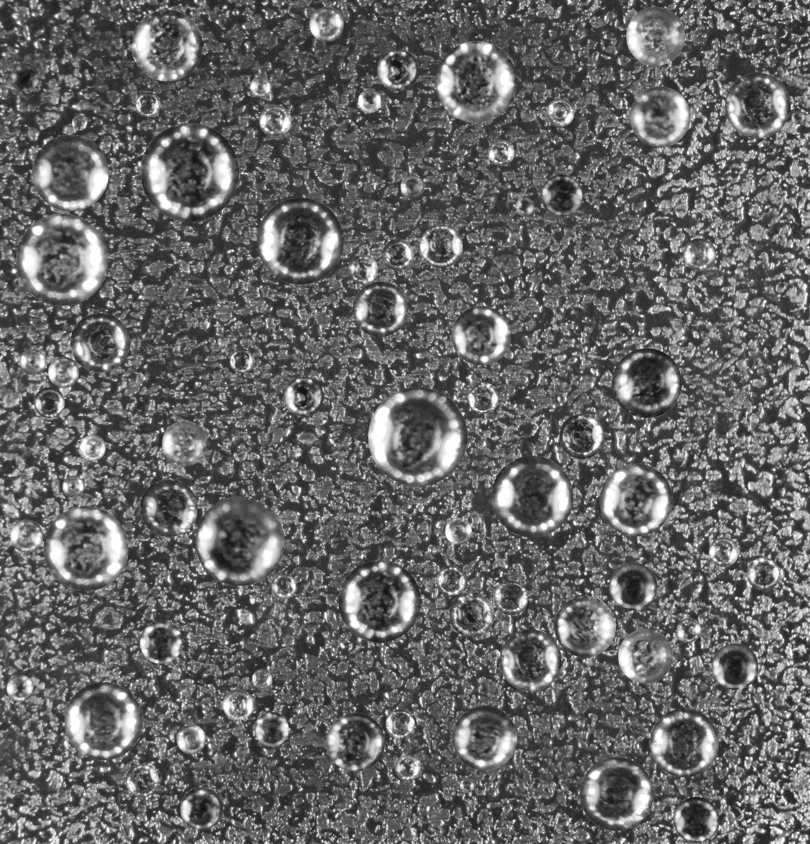Bubble: (368, 387, 467, 486), (140, 123, 238, 221), (16, 213, 108, 305), (195, 496, 284, 585), (257, 197, 343, 284), (43, 506, 128, 591), (338, 560, 420, 642), (491, 455, 573, 537), (435, 41, 517, 122), (64, 682, 142, 760), (32, 134, 108, 211), (580, 757, 653, 830), (599, 463, 672, 536), (131, 9, 202, 81), (612, 348, 681, 417), (650, 708, 718, 777), (725, 72, 790, 138), (452, 706, 517, 770), (499, 629, 561, 691), (554, 596, 615, 657), (630, 86, 690, 146), (70, 313, 129, 372), (451, 306, 510, 365), (626, 6, 685, 65), (326, 713, 384, 771), (140, 479, 197, 536), (352, 281, 407, 336), (618, 629, 672, 683), (609, 562, 657, 610), (673, 797, 719, 843), (712, 643, 758, 689), (162, 420, 207, 466), (559, 414, 604, 459), (449, 592, 494, 637), (419, 224, 462, 267), (139, 621, 182, 663), (180, 787, 222, 830), (540, 174, 582, 216), (377, 49, 418, 90), (283, 376, 323, 416), (493, 580, 528, 615), (254, 712, 288, 746), (309, 7, 343, 41), (683, 238, 716, 271), (747, 557, 780, 590), (125, 764, 158, 797), (10, 519, 43, 552), (259, 104, 291, 136), (382, 238, 413, 270), (467, 382, 499, 413), (33, 387, 64, 418), (222, 689, 253, 720), (48, 356, 78, 387), (436, 565, 466, 595), (708, 537, 738, 567), (176, 724, 205, 754), (348, 254, 377, 283), (385, 709, 414, 738), (10, 63, 39, 92), (546, 98, 574, 126), (445, 517, 471, 544), (19, 348, 45, 375), (6, 675, 33, 701), (394, 754, 420, 780), (488, 139, 514, 165), (79, 435, 105, 460), (271, 573, 296, 599), (229, 348, 254, 373), (135, 92, 160, 117), (676, 618, 701, 642), (400, 175, 424, 198), (357, 89, 381, 112), (62, 475, 84, 497), (250, 76, 271, 97), (252, 668, 272, 689), (515, 197, 534, 215), (71, 115, 87, 130), (459, 778, 474, 792), (791, 111, 804, 124), (557, 393, 567, 403)
